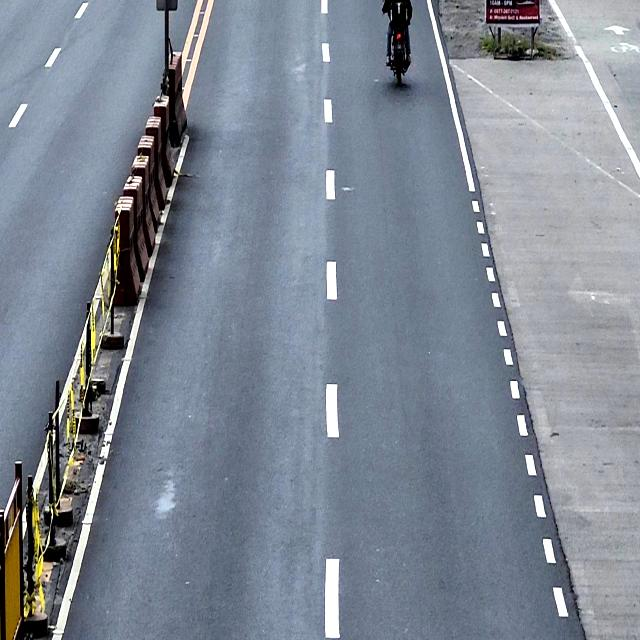Motorcycle: (382, 8, 412, 86)
